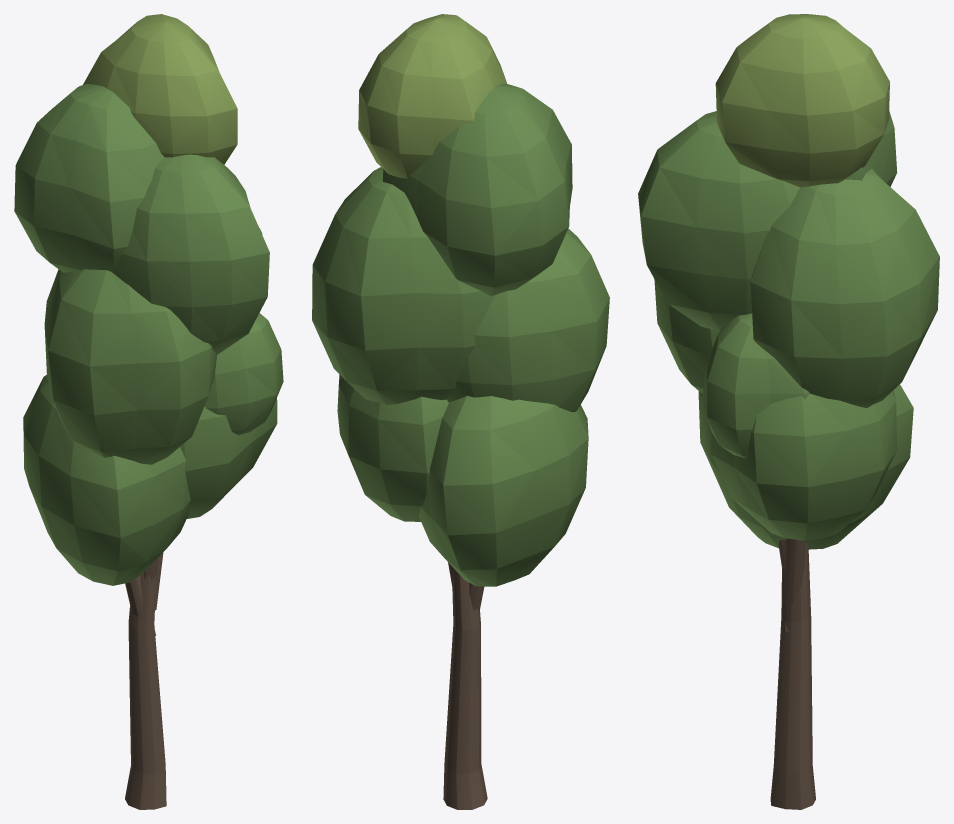
The model's file is TREE_02.glb.
The picture shows the model from 3 angles, left to right: view 1: azimuth 30°, elevation 25°; view 2: azimuth 150°, elevation 25°; view 3: azimuth 270°, elevation 25°; orthographic projection. The views are drawn at different scales.
Parts seen in each view (by area): view 1: CIVRUM_GAME_TREE_02; view 2: CIVRUM_GAME_TREE_02; view 3: CIVRUM_GAME_TREE_02.
Part boxes in pixels (bbox=[...]): CIVRUM_GAME_TREE_02: bbox=[14, 14, 283, 809]; CIVRUM_GAME_TREE_02: bbox=[312, 14, 609, 809]; CIVRUM_GAME_TREE_02: bbox=[638, 14, 939, 809].
Bounding box in the file's own units: 2.19 × 6.91 × 2.38.
